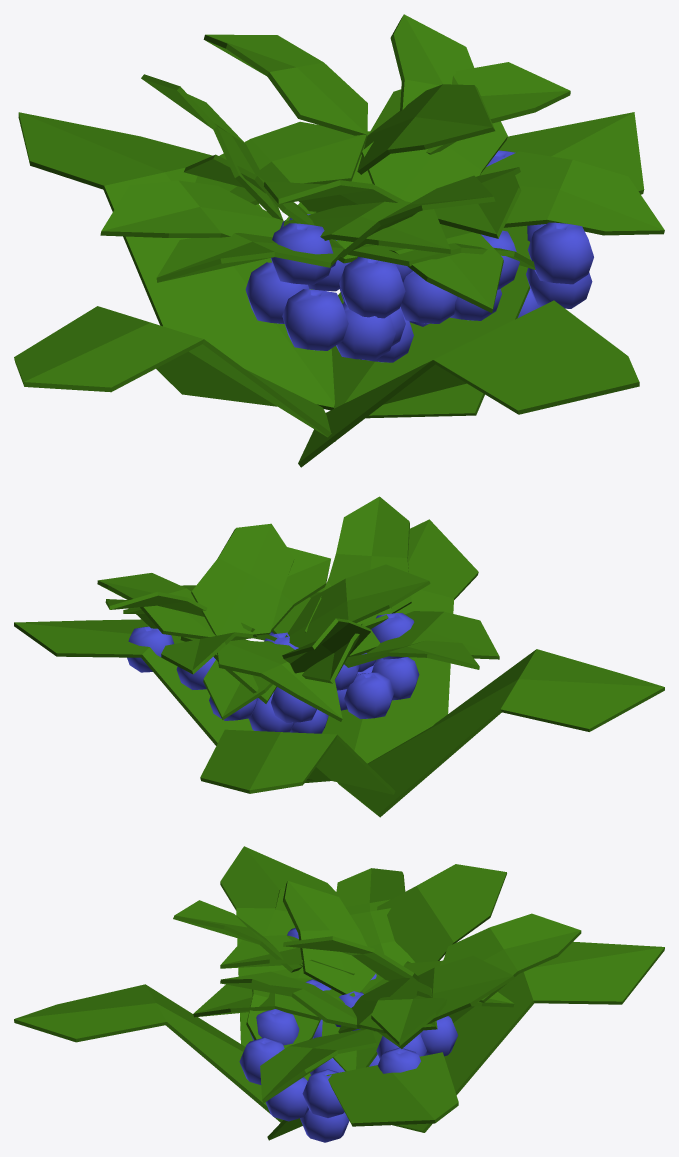
The model's file is blueberryBushDecoration.fbx.
3 renders of one model, top to bottom at view 1: azimuth 30°, elevation 25°; view 2: azimuth 150°, elevation 25°; view 3: azimuth 270°, elevation 25°, orthographic. The views are drawn at different scales.
Visible parts, largest first — view 1: bushDecoration.001; view 2: bushDecoration.001; view 3: bushDecoration.001.
Part boxes in pixels (left/top/right/bottom): bushDecoration.001: left=14, top=14, right=664, bottom=467; bushDecoration.001: left=14, top=496, right=664, bottom=817; bushDecoration.001: left=14, top=846, right=664, bottom=1142.
Size of the model in its own units: 5327 by 2075 by 5381.
